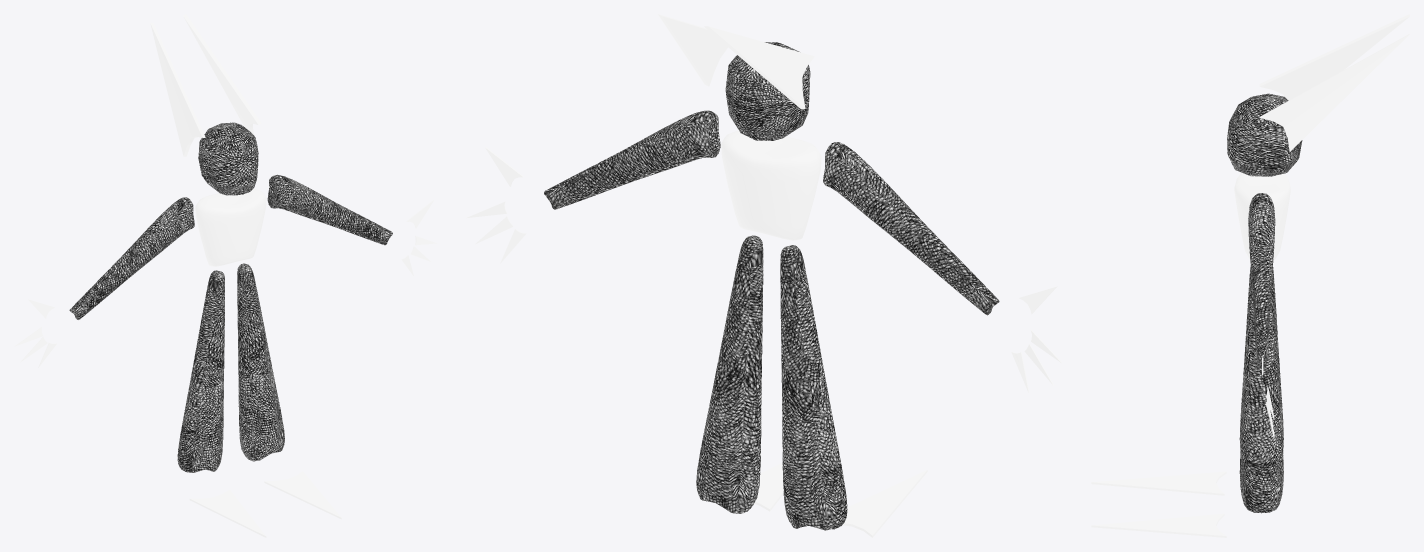
File: green.glb
The picture shows the model from 3 angles, left to right: view 1: azimuth 30°, elevation 25°; view 2: azimuth 150°, elevation 25°; view 3: azimuth 270°, elevation 25°; orthographic projection. The views are drawn at different scales.
Parts seen in each view (by area): view 1: Cube.002, Cube.003, Cube.001, Cube, Plane, Plane.001, Plane.002; view 2: Cube.002, Cube.003, Cube.001, Plane, Cube, Plane.001, Plane.002; view 3: Cube.002, Plane, Cube, Plane.001, Cube.003, Cube.001.
Boxes of the visible parts, box(x1,y1,x2,y2) form: Cube.002: box(177, 263, 284, 472); Cube.003: box(69, 174, 392, 319); Cube.001: box(195, 188, 266, 266); Cube: box(198, 122, 258, 195); Plane: box(150, 14, 261, 156); Plane.001: box(189, 471, 341, 537); Plane.002: box(14, 200, 436, 367); Cube.002: box(696, 235, 847, 530); Cube.003: box(544, 110, 999, 315); Cube.001: box(721, 130, 821, 240); Plane: box(658, 14, 814, 109); Cube: box(725, 42, 810, 140); Plane.001: box(754, 463, 927, 537); Plane.002: box(467, 147, 1061, 392); Cube.002: box(1239, 267, 1283, 513); Plane: box(1259, 14, 1409, 151); Cube: box(1227, 93, 1302, 176); Plane.001: box(1091, 471, 1226, 537); Cube.003: box(1248, 193, 1275, 367); Cube.001: box(1234, 172, 1290, 260).
Bounding box in the file's own units: 6.64 × 6.17 × 3.7.
2 materials, 1 textured.
